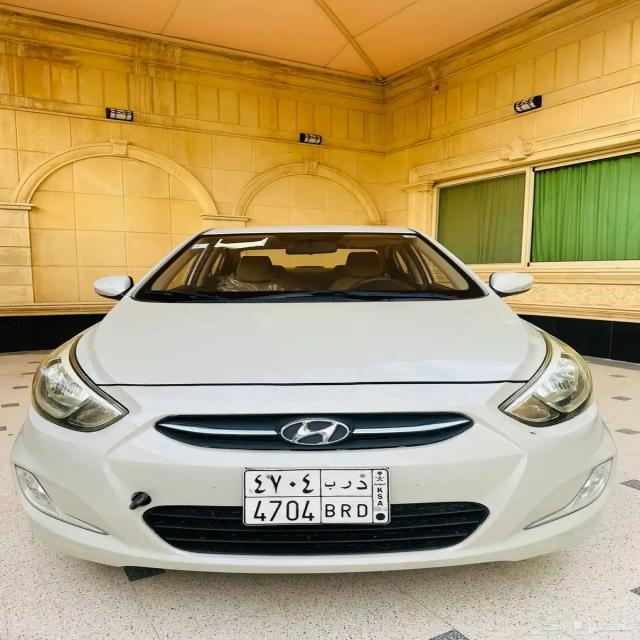license_plate: (244, 496, 374, 526)
